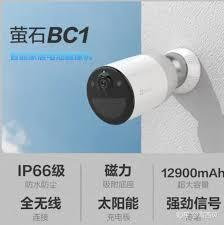tutu: (81, 52, 180, 126)
